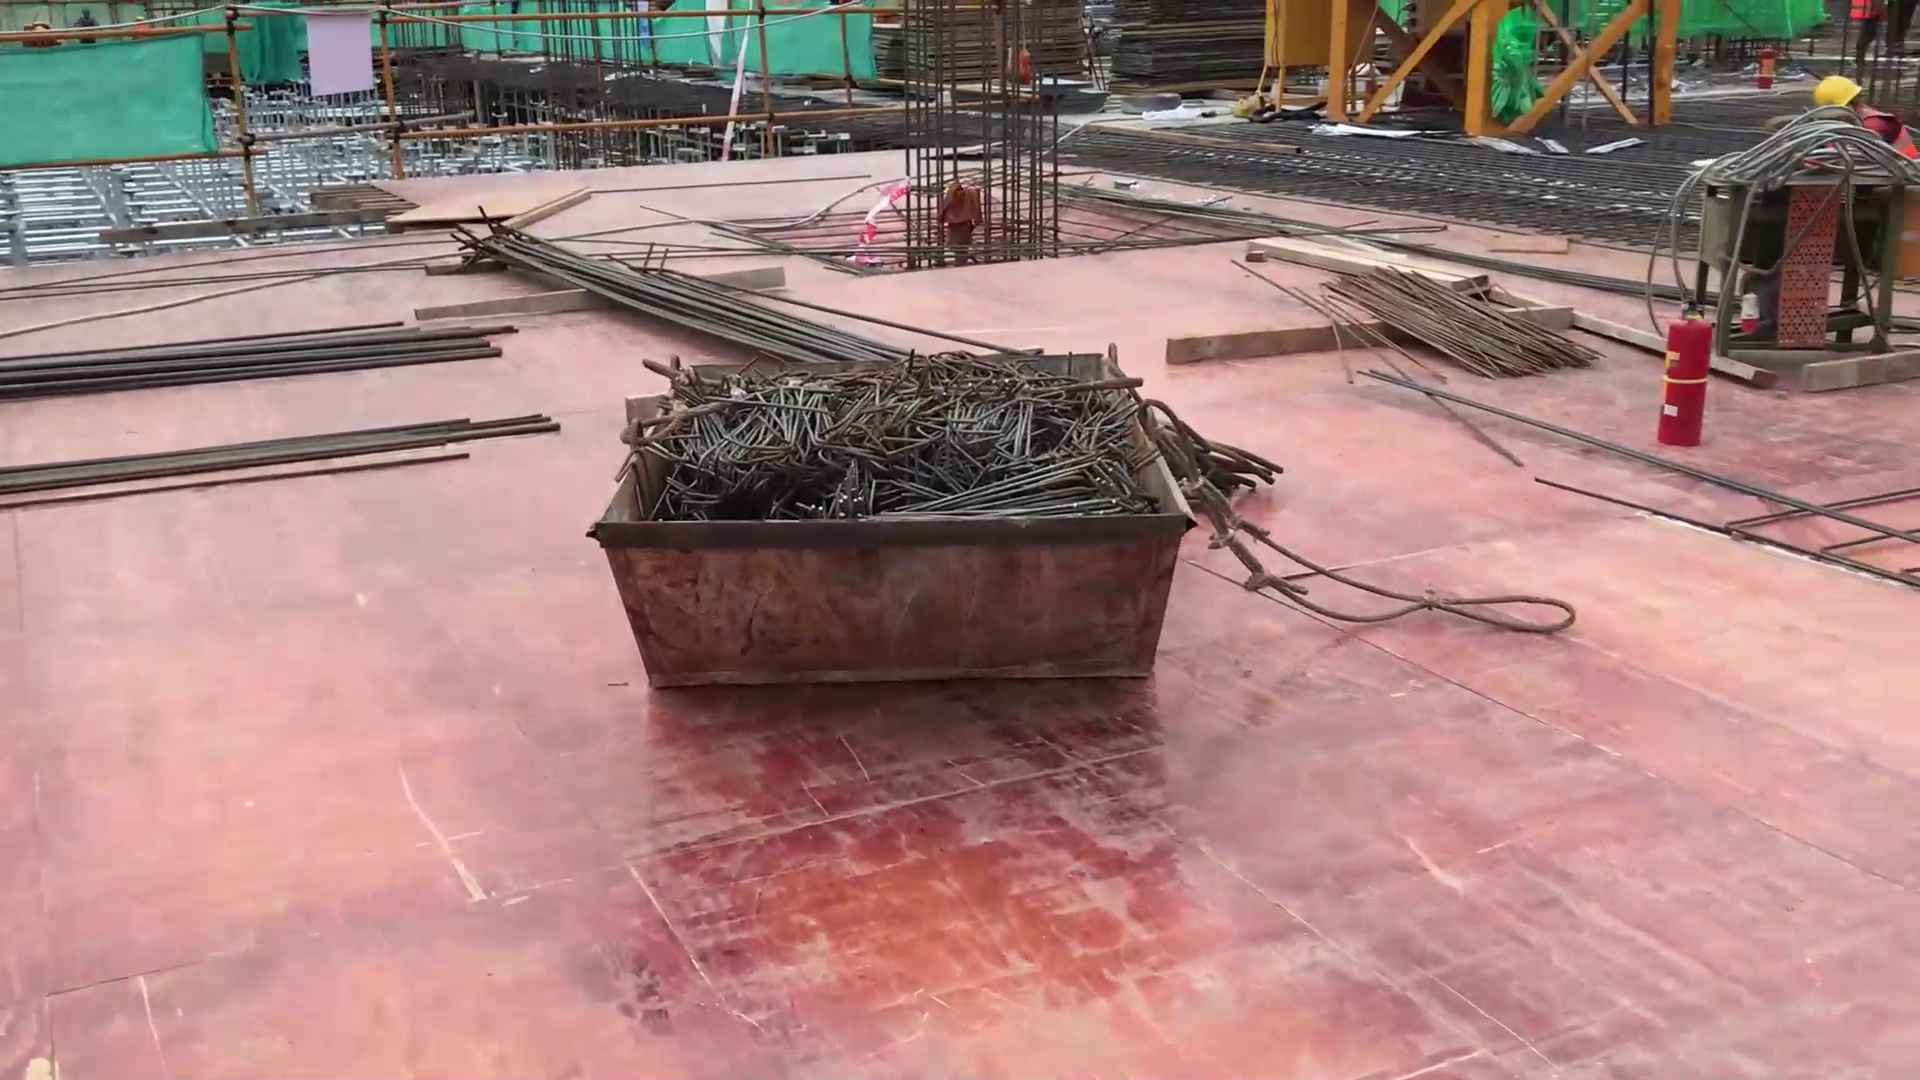ebox: (1228, 1, 1407, 133)
helmet: (1815, 69, 1859, 111)
hopper: (582, 297, 1200, 759)
person: (1808, 65, 1919, 157)
rebar: (1311, 252, 1600, 400), (6, 309, 545, 387)
